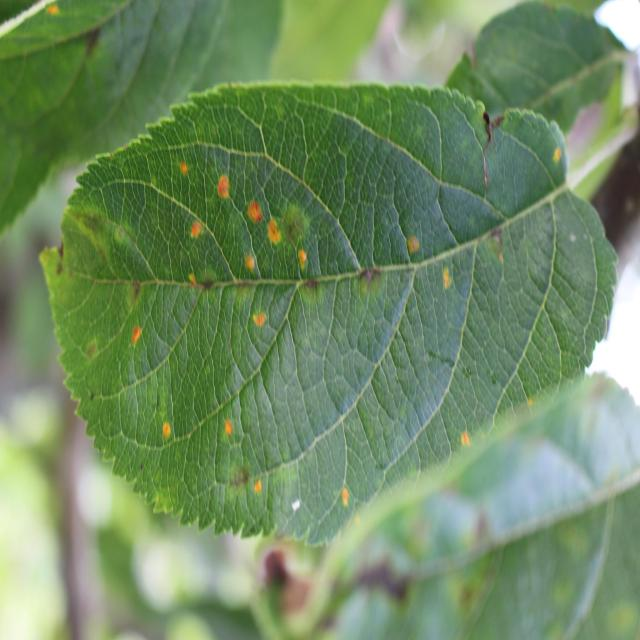Rust: (402, 230, 430, 263), (245, 195, 267, 232), (550, 137, 568, 175), (265, 215, 283, 252), (213, 172, 232, 206), (126, 324, 145, 354), (249, 306, 270, 332), (294, 247, 310, 280), (456, 426, 476, 452), (178, 157, 192, 190), (187, 216, 202, 246), (44, 1, 62, 26), (440, 263, 454, 294), (244, 250, 260, 274), (219, 416, 234, 436), (253, 477, 266, 500), (161, 416, 172, 443), (339, 488, 352, 509)
scab: (41, 194, 520, 368), (315, 504, 508, 634), (520, 56, 623, 118), (18, 25, 120, 75), (466, 104, 500, 212), (222, 457, 256, 492)
